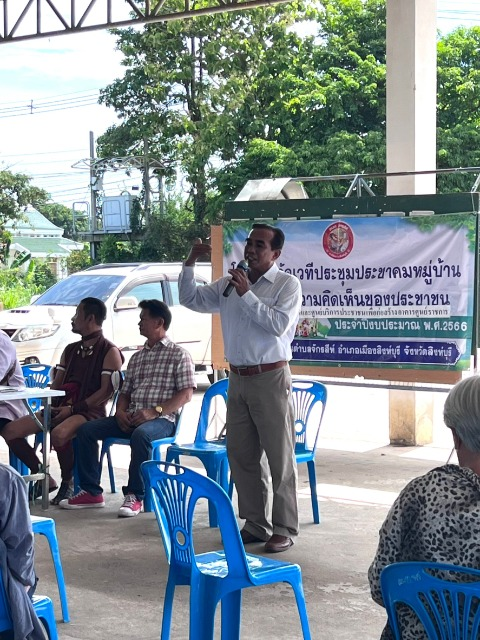text: (271, 258, 463, 284), (289, 339, 454, 360), (332, 316, 468, 332), (302, 292, 451, 306)
